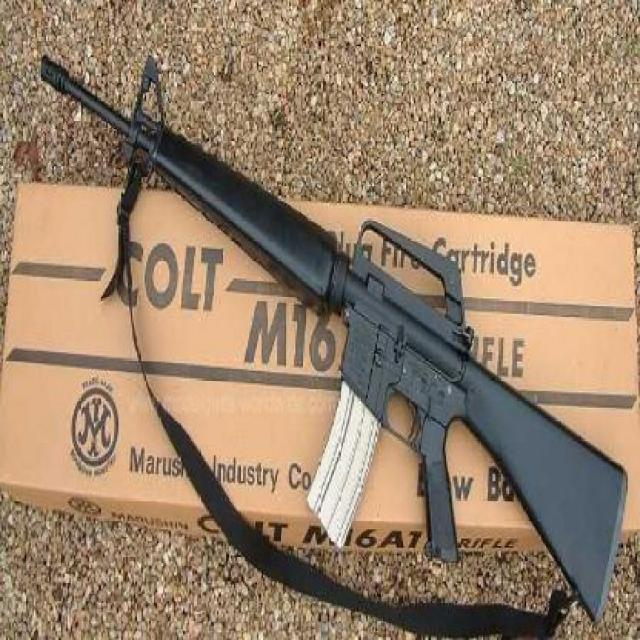weapon: (40, 54, 630, 627)
